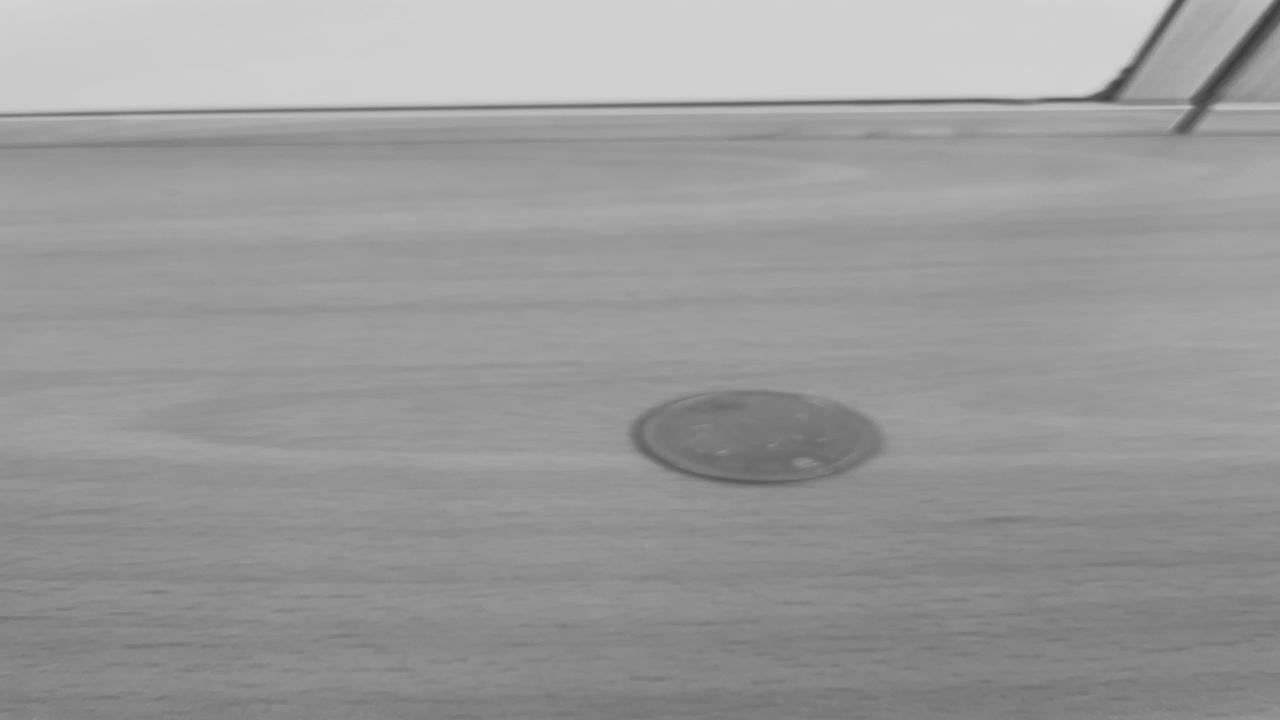coin: (634, 389, 882, 484)
